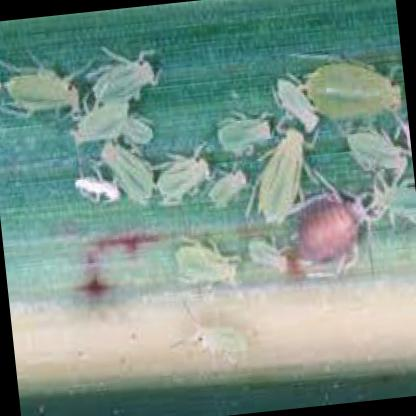schizaphis graminum: (301, 58, 398, 115), (256, 129, 304, 231), (1, 73, 77, 113), (101, 144, 152, 203), (90, 60, 154, 102), (214, 116, 268, 153), (348, 133, 400, 167)
